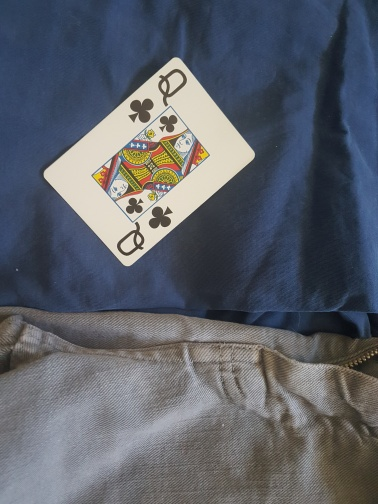queen: (44, 55, 255, 266)
